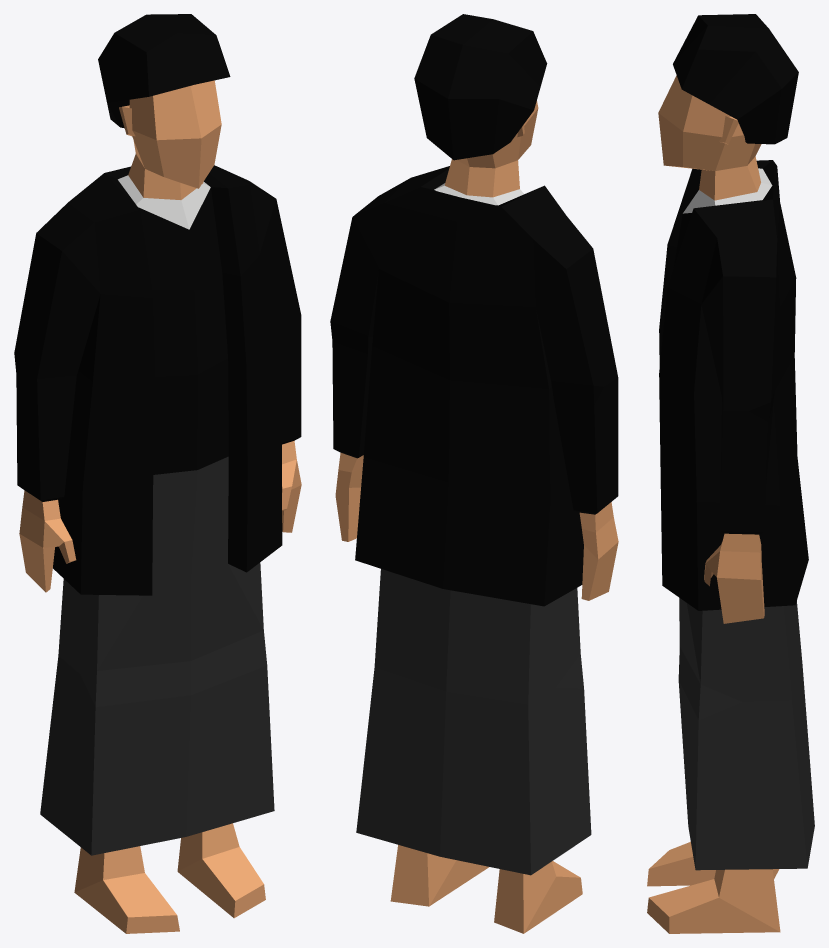
The model's file is man-samurai-black.glb.
The picture shows the model from 3 angles, left to right: view 1: azimuth 30°, elevation 25°; view 2: azimuth 150°, elevation 25°; view 3: azimuth 270°, elevation 25°; orthographic projection.
Parts seen in each view (by area): view 1: man-samurai-black; view 2: man-samurai-black; view 3: man-samurai-black.
Boxes of the visible parts, <box> form: man-samurai-black: <box>14,14,301,933</box>; man-samurai-black: <box>330,14,618,933</box>; man-samurai-black: <box>647,14,814,933</box>.
Bounding box in the file's own units: 0.5881 × 1.85 × 0.3218.
Materials: 1 (1 with a texture image).
